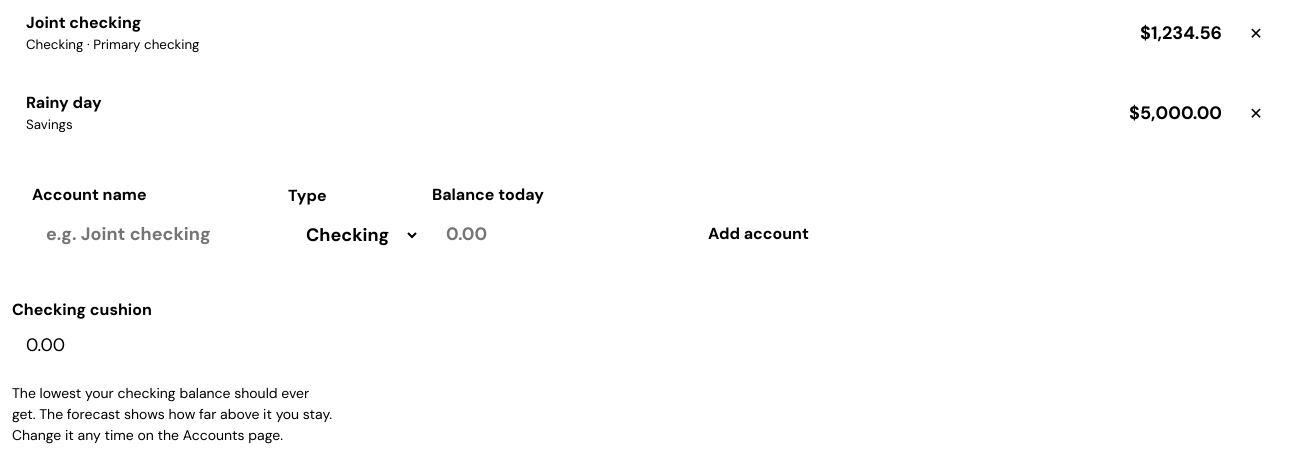
P1-10 bank accounts step › removes an account
The width and height of the screenshot is (1292, 461).
Click the button named "Remove Rainy day": click(1256, 113) x1=1234 y1=91 x2=1278 y2=135
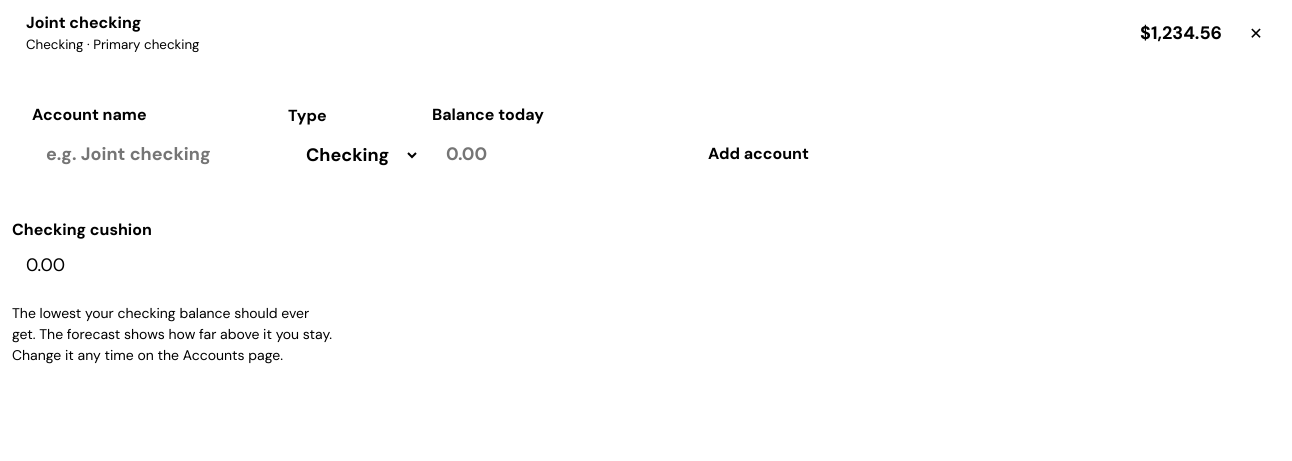
Expected: the text "Rainy day" is gone
